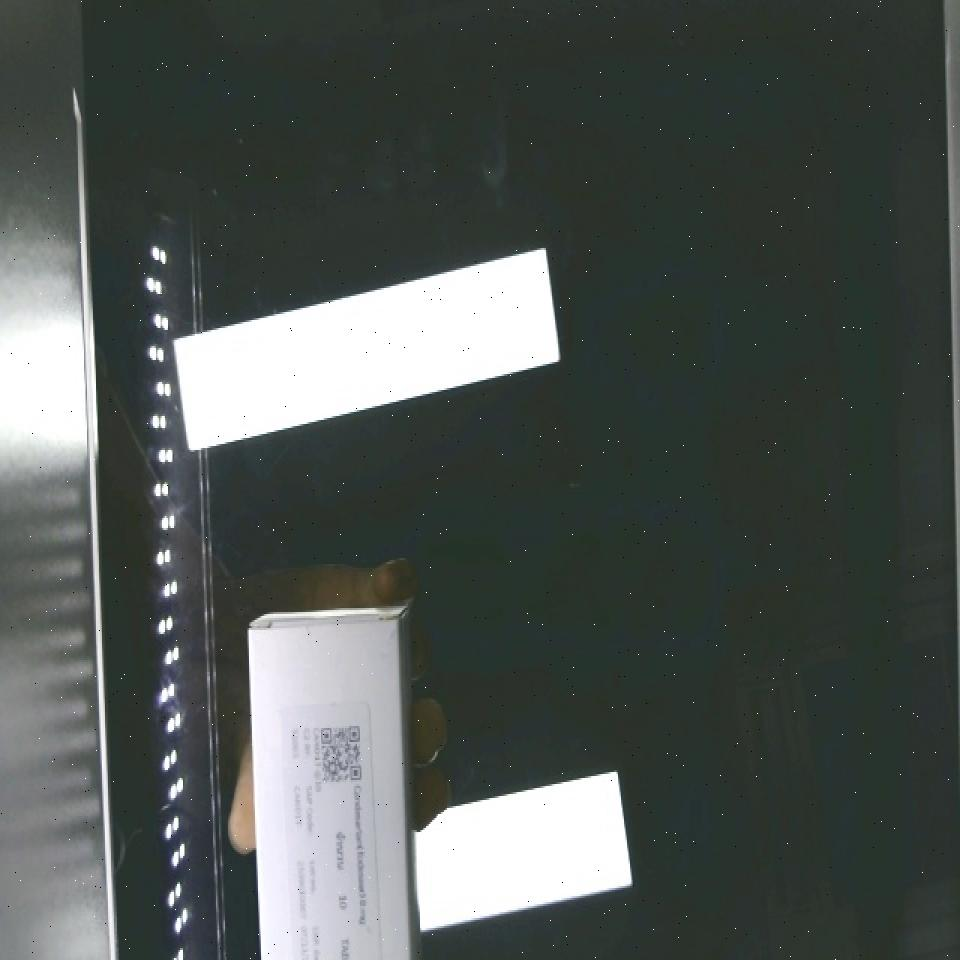medicine_box: (252, 620, 408, 960)
qr_code: (305, 704, 373, 798)
